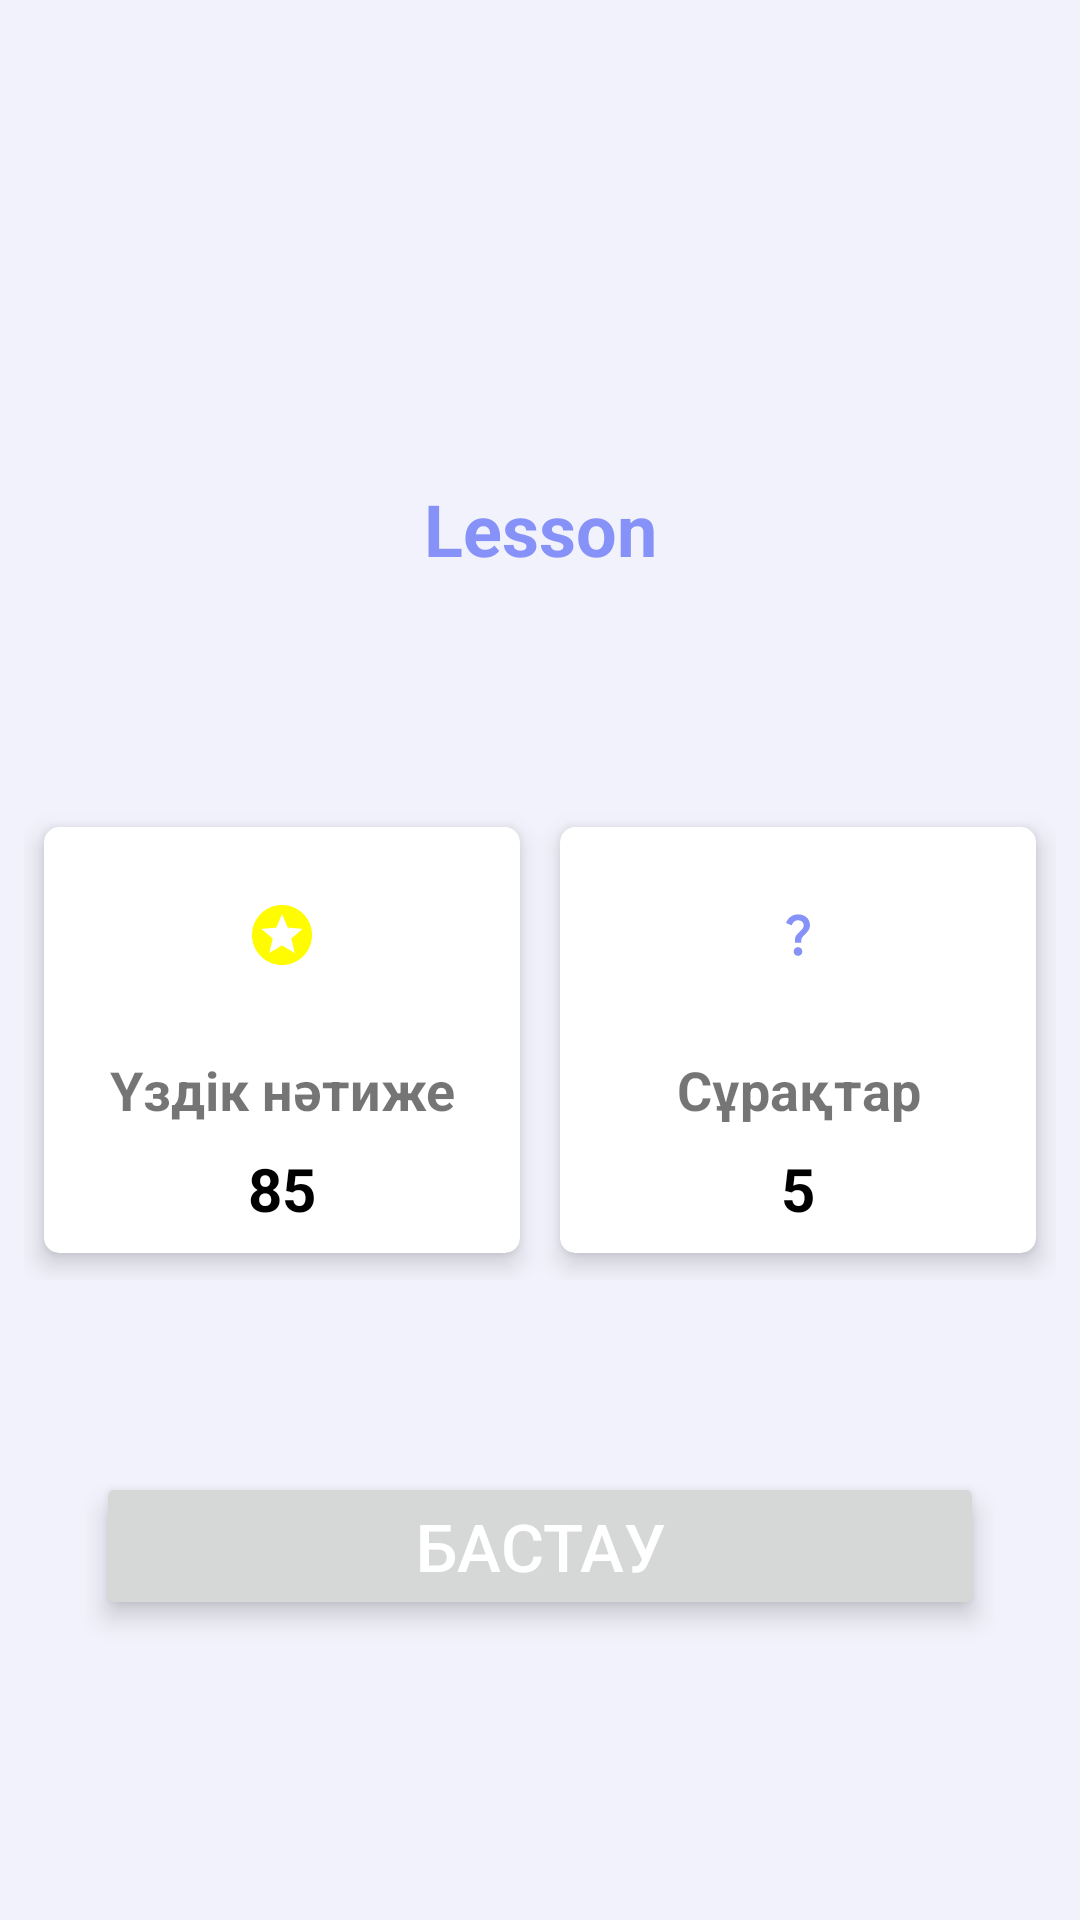

Icons on this 1080px×1920px Android screen, each with its box as (x1, y1, x2, y2):
question: (786, 914, 810, 956)
stars: (252, 905, 312, 965)
